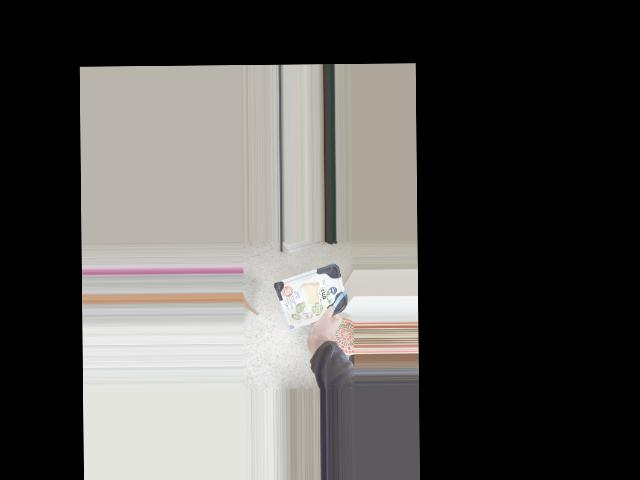cheese: (273, 263, 348, 327)
